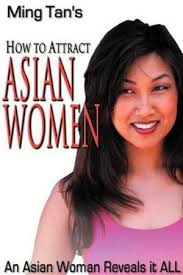asian_female: (107, 31, 180, 148)
